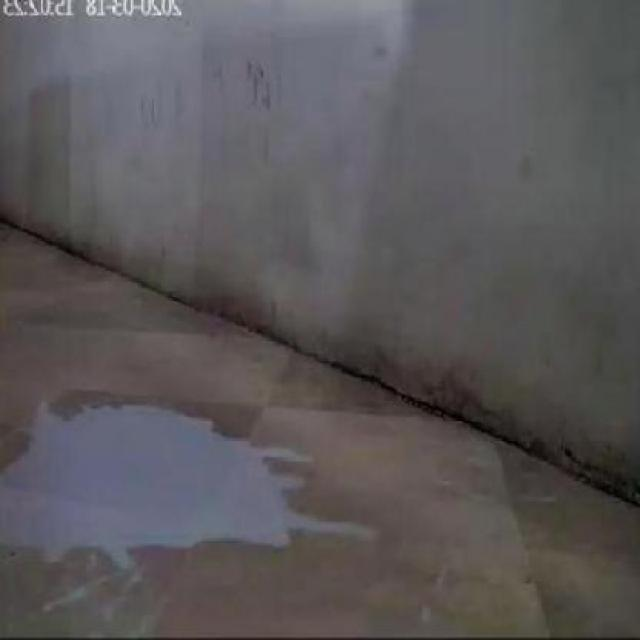spillage: (0, 406, 371, 559)
